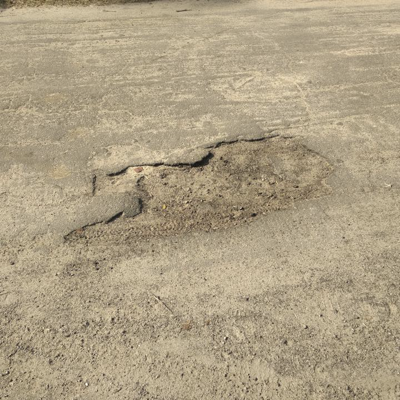pothole: (59, 132, 339, 250)
